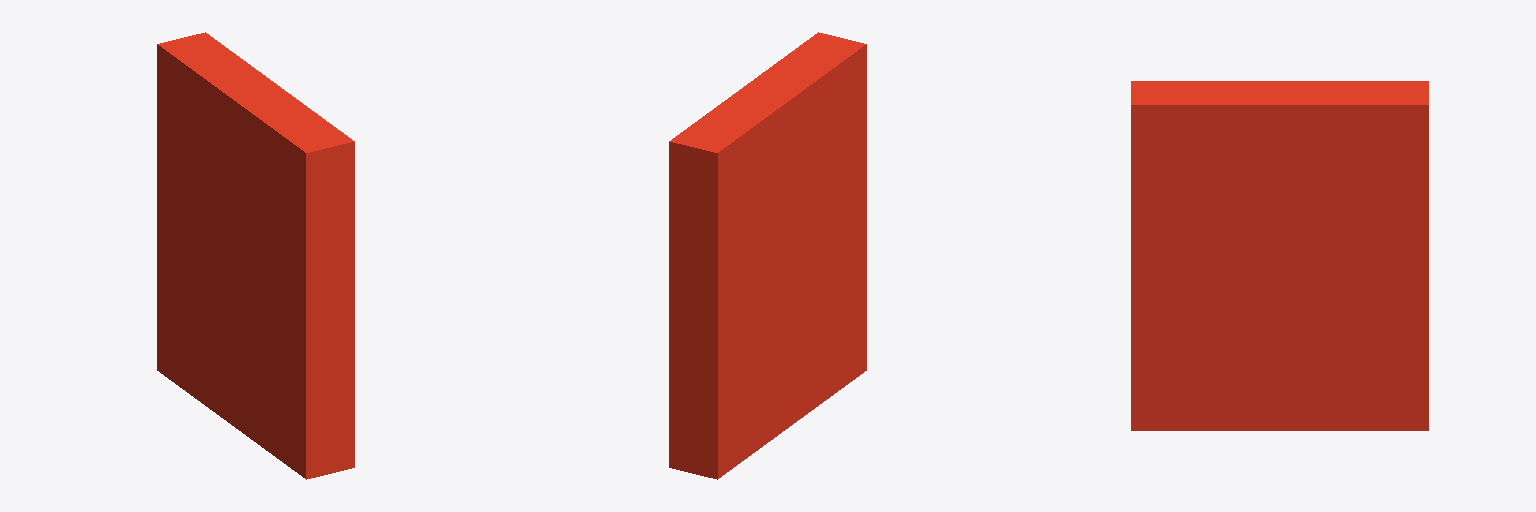
The picture shows the model from 3 angles: view 1: azimuth 30°, elevation 25°; view 2: azimuth 150°, elevation 25°; view 3: azimuth 270°, elevation 25°; orthographic projection.
Visible parts, largest first — view 1: Cube; view 2: Cube; view 3: Cube.
Boxes of the visible parts, <box> form: Cube: <box>157,32,354,479</box>; Cube: <box>669,32,866,479</box>; Cube: <box>1131,81,1428,430</box>.
Bounding box in the file's own units: 0.3744 × 2.41 × 2.
1 materials, 1 textured.